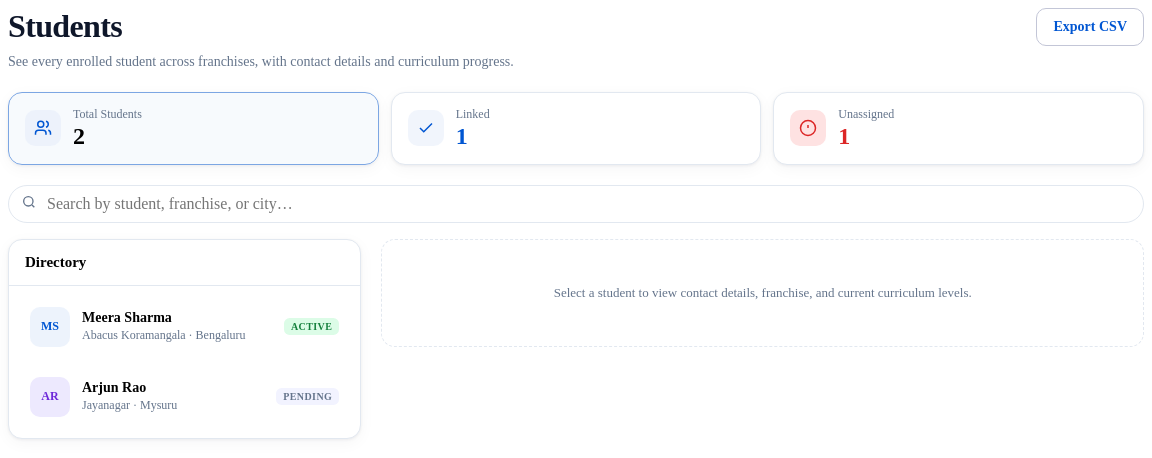
Test: BrandStudentsPage › regression_brand_students_search_by_name_franchise_city
This screenshot has width=1152, height=458.
Expected: the text "Meera Sharma" is shown, left=82, top=310, right=172, bottom=325
Expected: the text "Arjun Rao" is shown, left=82, top=380, right=146, bottom=395
Type "mysuru" into the search field with placeholder "Search by student, franchise, or city…" at (588, 204), box left=45, top=194, right=1131, bottom=214
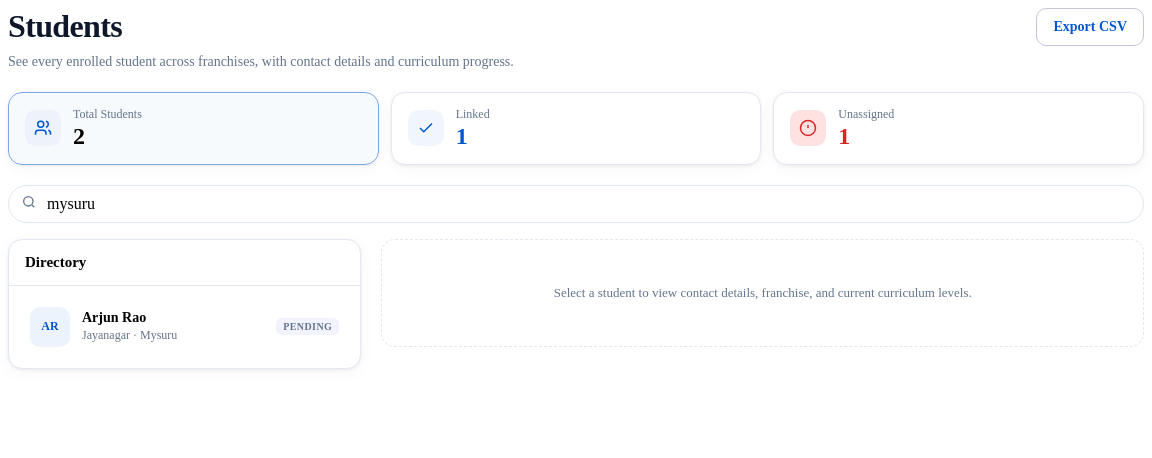
Expected: the text "Arjun Rao" is shown, left=82, top=310, right=146, bottom=325
Now the button "Meera Sharma" is gone
Replace the text in the search field with placeholder "Search by student, franchise, or city…" with "koramangala" at (588, 204), box left=45, top=194, right=1131, bottom=214
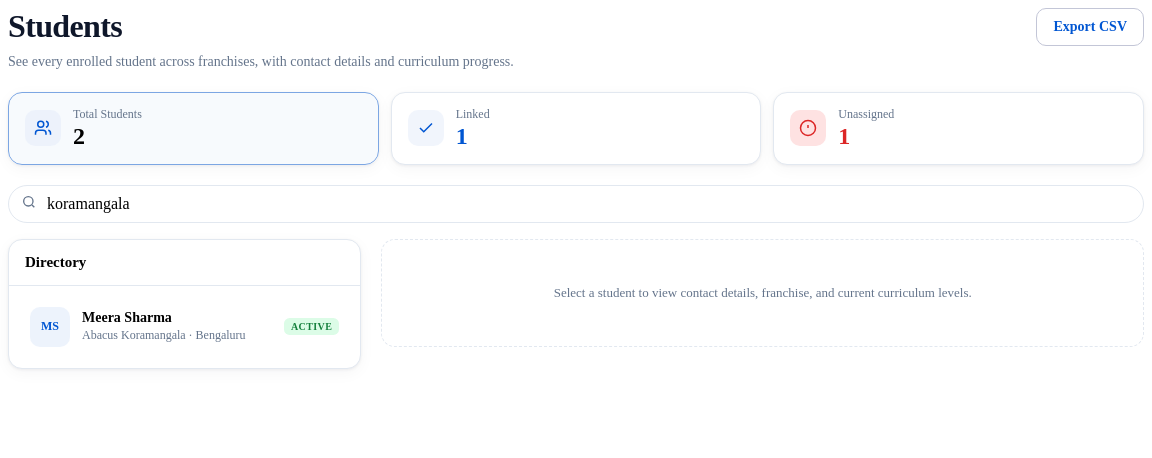
Now the text "Meera Sharma" is shown, box left=82, top=310, right=172, bottom=325
Now the button "Arjun Rao" is gone
Replace the text in the search field with placeholder "Search by student, franchise, or city…" with "arjun" at (588, 204), box left=45, top=194, right=1131, bottom=214
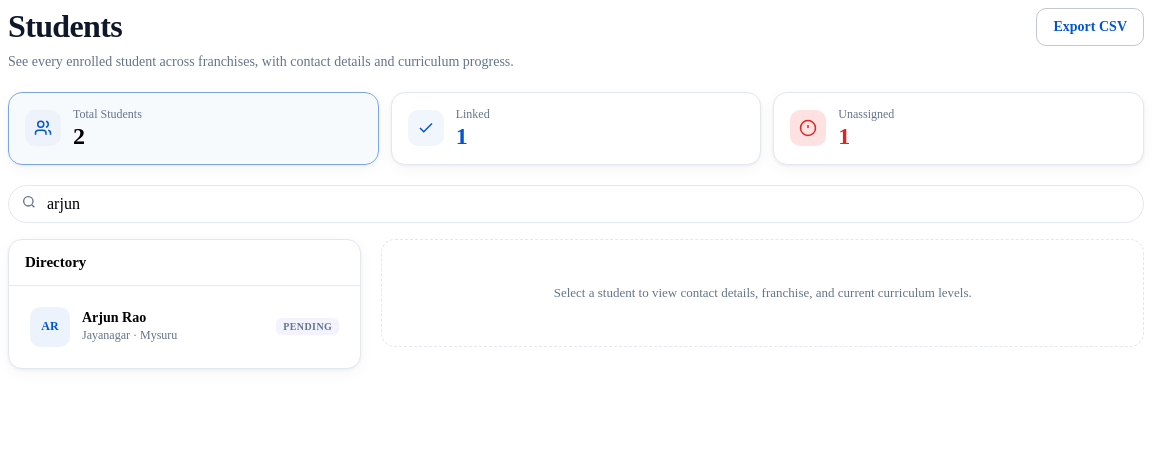
Now the text "Arjun Rao" is shown, box left=82, top=310, right=146, bottom=325
